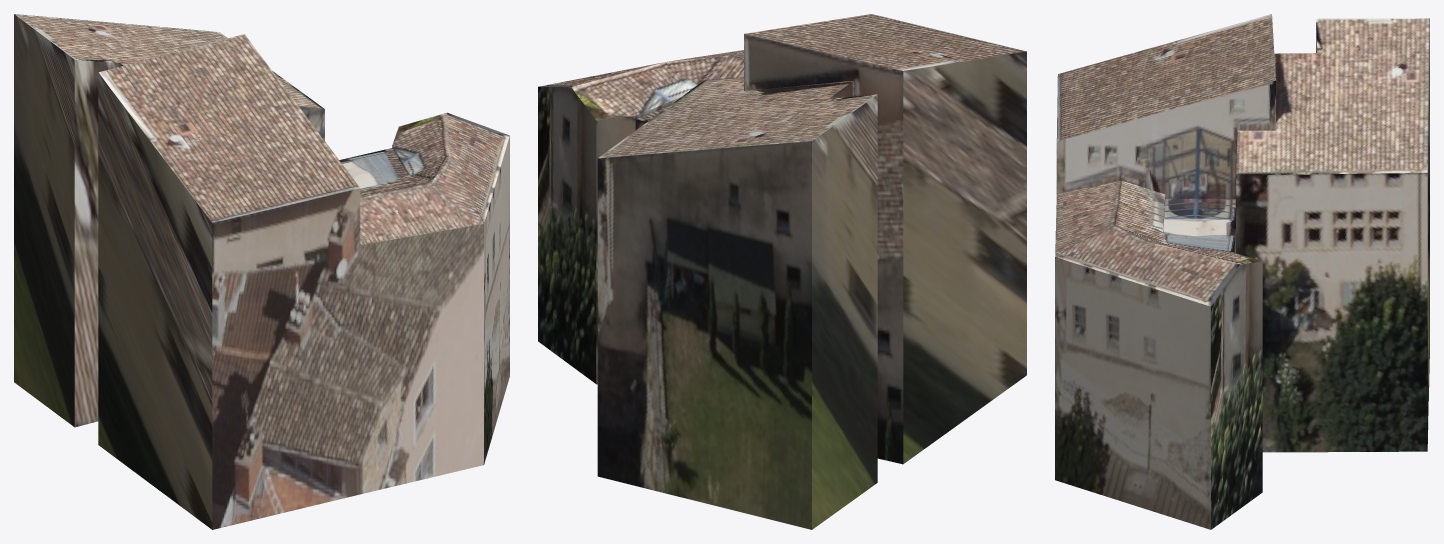
3 renders of one model, left to right at view 1: azimuth 30°, elevation 25°; view 2: azimuth 150°, elevation 25°; view 3: azimuth 270°, elevation 25°, orthographic. The views are drawn at different scales.
Visible parts, largest first — view 1: Z_UP; view 2: Z_UP; view 3: Z_UP.
Boxes of the visible parts, bbox=[...] form: Z_UP: bbox=[14, 14, 509, 529]; Z_UP: bbox=[538, 14, 1026, 529]; Z_UP: bbox=[1055, 14, 1429, 529].
Size of the model in its own units: 19.8 by 18.57 by 18.25.
Materials: 2 (1 with a texture image).
